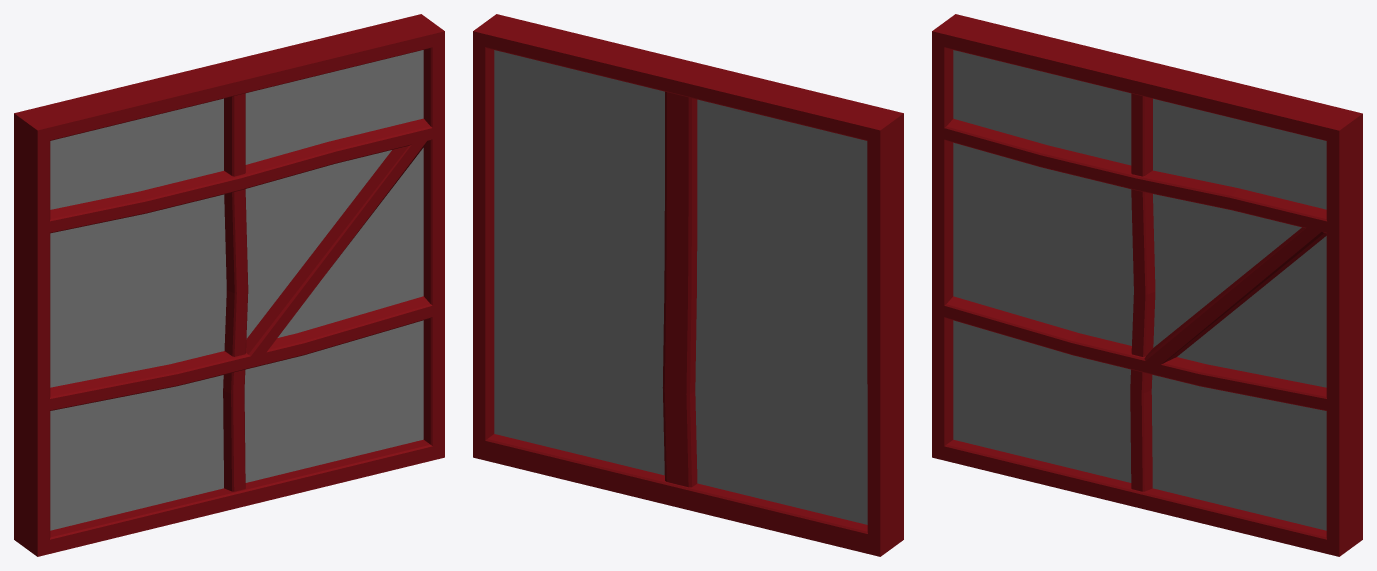
Rendered from SM_MH_01_Wood_02_Wall_01.fbx.
3 views of the same model, side by side, from view 1: azimuth 30°, elevation 25°; view 2: azimuth 150°, elevation 25°; view 3: azimuth 330°, elevation 25° (orthographic).
Parts seen in each view (by area): view 1: SM_MH_01_Wood_02_Wall_01_LOD0; view 2: SM_MH_01_Wood_02_Wall_01_LOD0; view 3: SM_MH_01_Wood_02_Wall_01_LOD0.
Boxes of the visible parts, x1,y1,x2,y2 form: SM_MH_01_Wood_02_Wall_01_LOD0: (14,14,444,556); SM_MH_01_Wood_02_Wall_01_LOD0: (473,14,903,556); SM_MH_01_Wood_02_Wall_01_LOD0: (932,14,1362,556).
Size of what is drawn, in the model's own units: 300 by 300 by 30.
